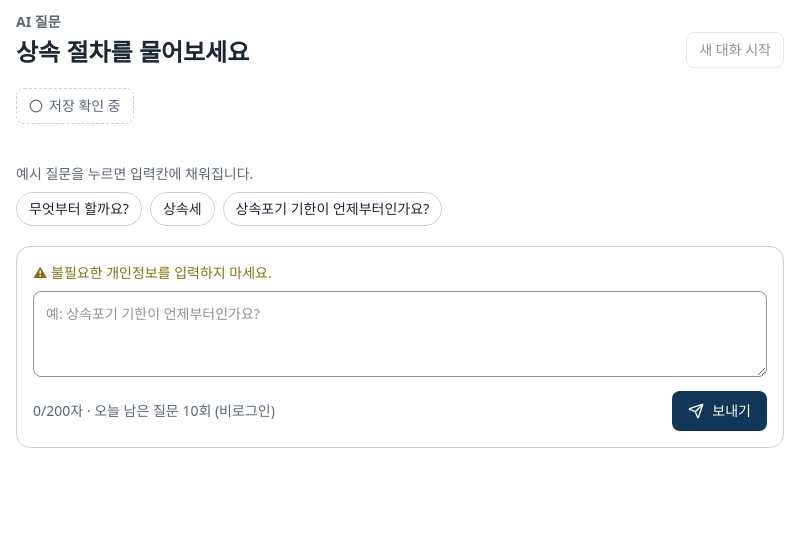
S6·S7·S9 안내 구분 (7-2-2) › S6 기술 오류는 질문이 남아 있다고 알리고 [다시 시도]를 준다
The width and height of the screenshot is (801, 555).
Type "상속포기 기한" into the text box named "질문" at (400, 334), box [33,291,767,377]
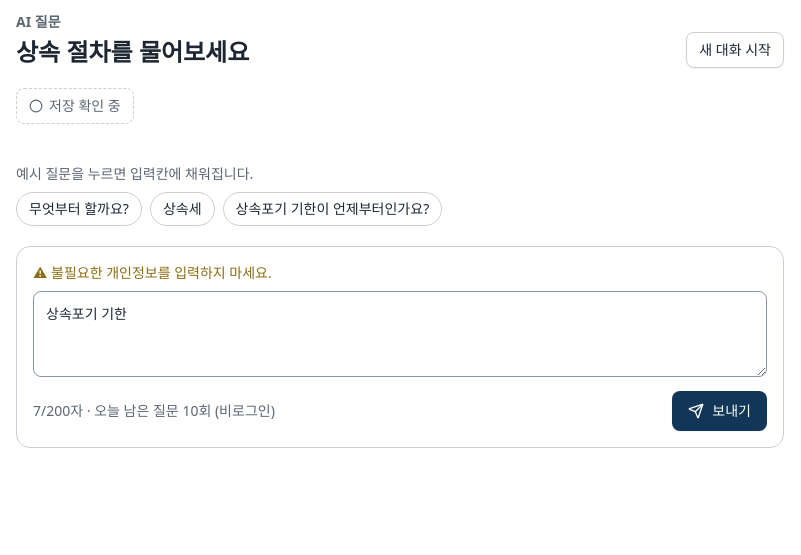
Click the button "보내기" at (720, 411), box [672,391,767,431]
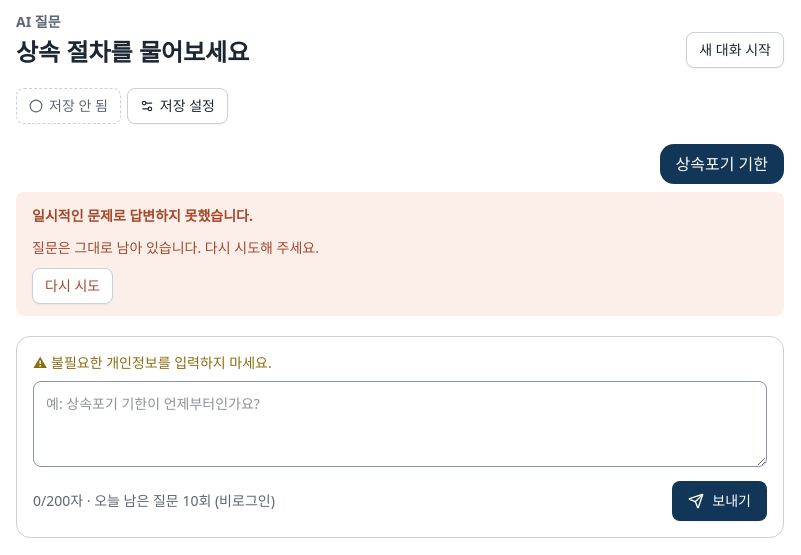
Expected: the text "일시적인 문제로 답변하지 못했습니다." is shown, [32,206,253,225]
Expected: the button "다시 시도" is shown, [32,268,113,304]
